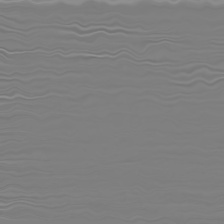cavities: (95, 75, 172, 135)
